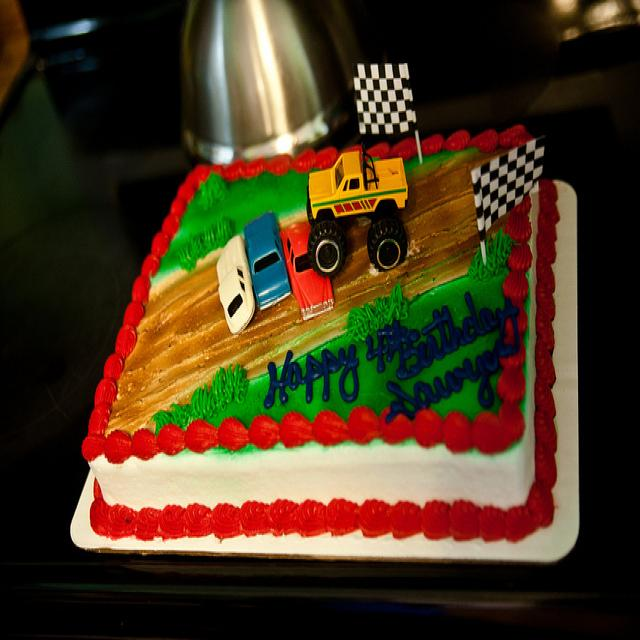Vehicle: (303, 151, 414, 276), (280, 222, 336, 325), (242, 212, 292, 312), (216, 234, 257, 336)
